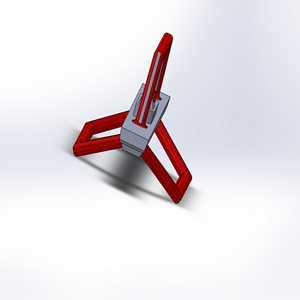submarine: (62, 11, 221, 212)
